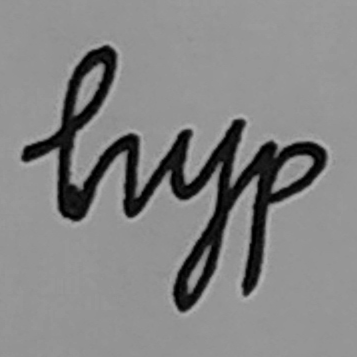h: (52, 42, 146, 226)
p: (237, 134, 332, 300)
y: (158, 112, 250, 316)
